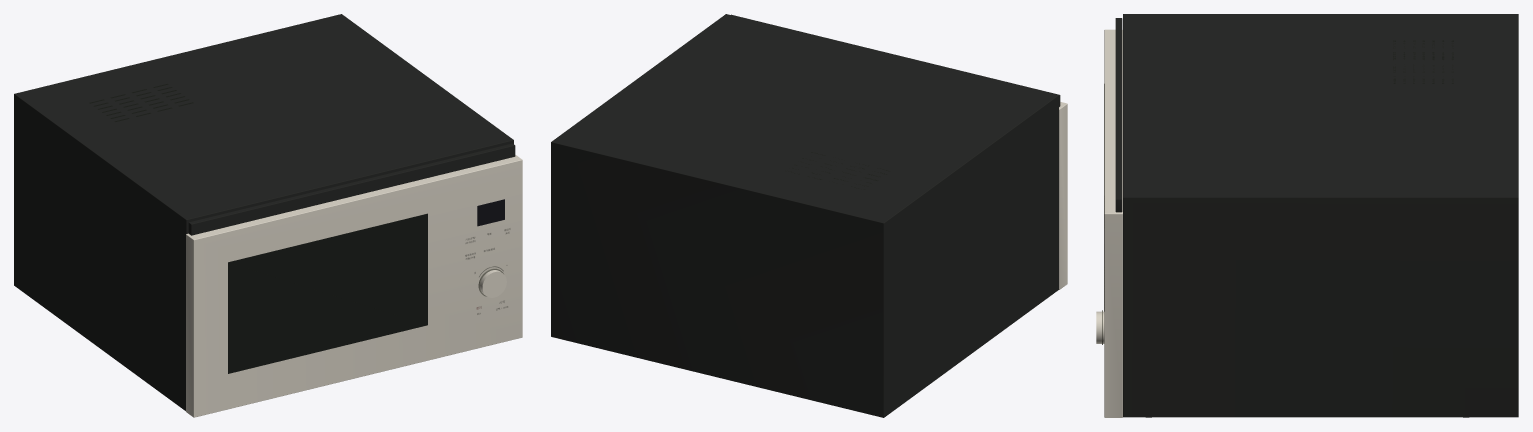
File: MLJ39EW.glb
3 views of the same model, side by side, from view 1: azimuth 30°, elevation 25°; view 2: azimuth 150°, elevation 25°; view 3: azimuth 270°, elevation 25° (orthographic). The views are drawn at different scales.
Parts seen in each view (by area): view 1: BodyShell, ControlKnob, TopVent_0_0, ControlDisplay; view 2: BodyShell, ControlKnob; view 3: BodyShell, ControlKnob, TopVent_0_0.
Part boxes in pixels (bbox=[...]): BodyShell: bbox=[14, 14, 515, 410]; ControlKnob: bbox=[186, 155, 522, 417]; TopVent_0_0: bbox=[89, 84, 427, 373]; ControlDisplay: bbox=[477, 199, 504, 226]; BodyShell: bbox=[551, 14, 1060, 417]; ControlKnob: bbox=[1059, 102, 1067, 289]; BodyShell: bbox=[1115, 14, 1518, 417]; ControlKnob: bbox=[1096, 29, 1122, 417]; TopVent_0_0: bbox=[1104, 40, 1453, 311].
Bounding box in the file's own units: 0.54 × 0.325 × 0.523.
8 materials, 2 textured.
